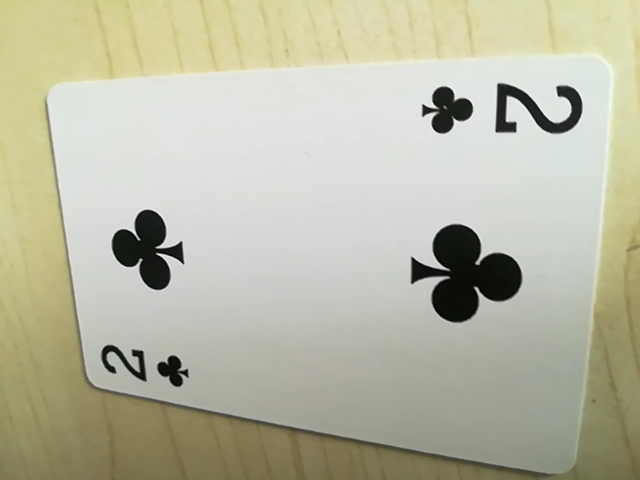mh 2: (416, 71, 584, 145), (92, 338, 192, 396)
